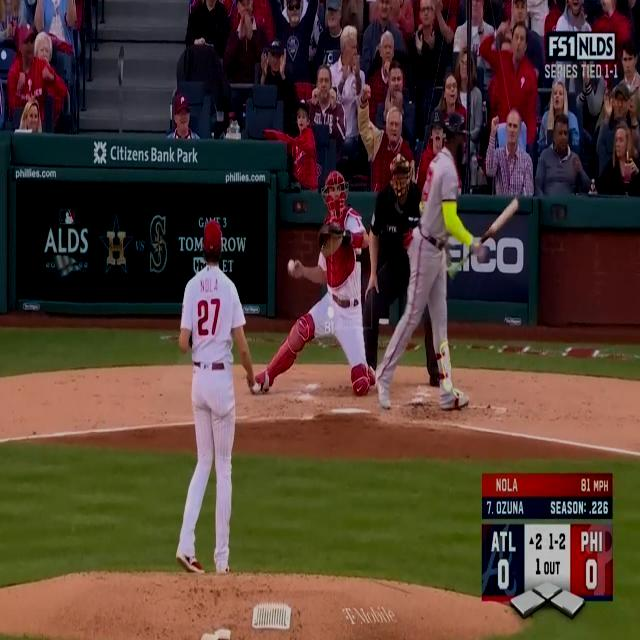baseball bat: (448, 198, 518, 278)
sports ball: (287, 258, 297, 274)
